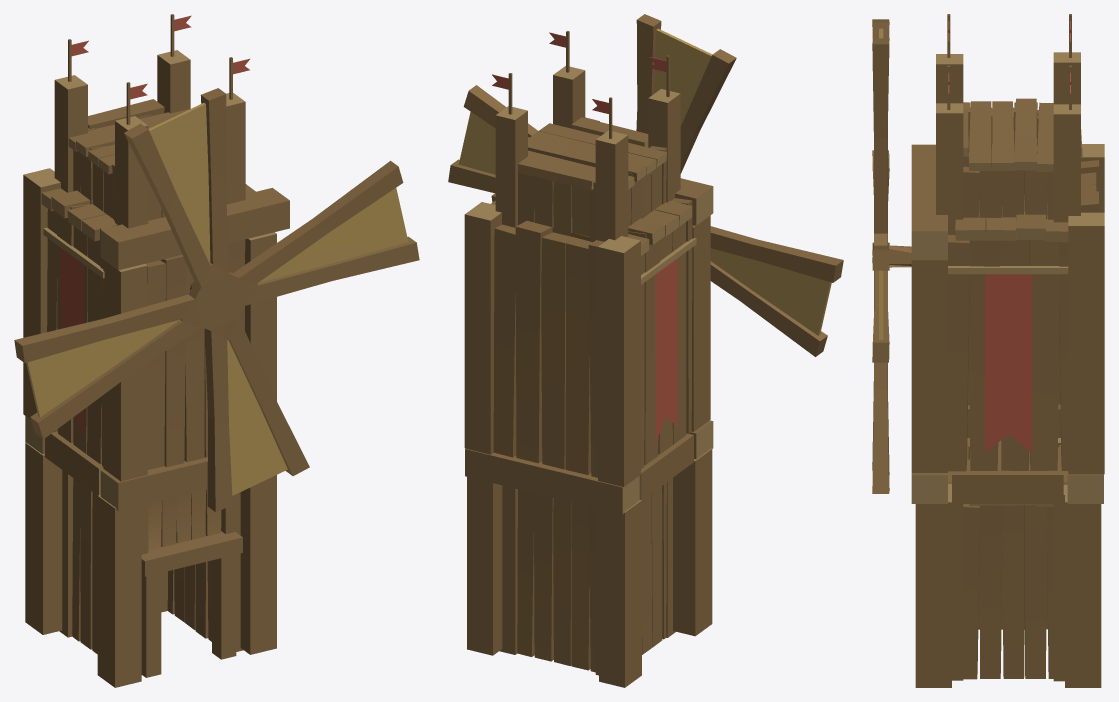
Rendered from windmill_firstage.glb.
3 views of the same model, side by side, from view 1: azimuth 30°, elevation 25°; view 2: azimuth 150°, elevation 25°; view 3: azimuth 270°, elevation 25° (orthographic). The views are drawn at different scales.
Parts seen in each view (by area): view 1: Windmill_FirstAge; view 2: Windmill_FirstAge; view 3: Windmill_FirstAge.
Part boxes in pixels (bbox=[...]): Windmill_FirstAge: bbox=[14, 14, 419, 687]; Windmill_FirstAge: bbox=[448, 14, 843, 687]; Windmill_FirstAge: bbox=[872, 14, 1104, 687].
Size of the model in its own units: 1.35 by 1.92 by 0.6603.
